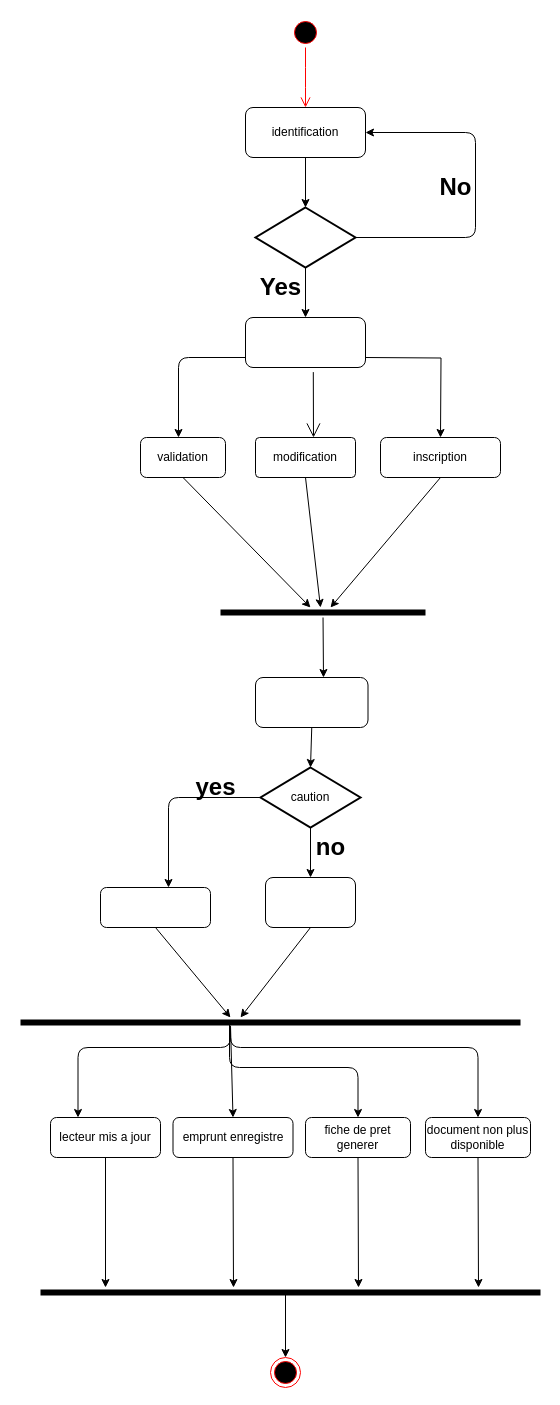
This 560x1405 diagram has some shape labels left out. Here are the shapes that lost their labels. From the top down, the box of each, then its label:
(254, 206, 356, 268): connection
(244, 316, 366, 368): gestion des lecteur
(254, 676, 368, 728): selection document
(100, 886, 210, 928): validation pret + caution
(264, 876, 356, 928): validation pret
